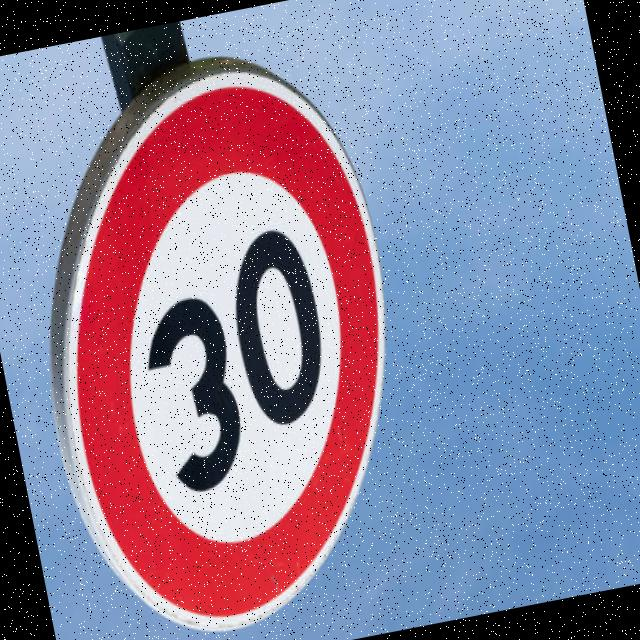speed_limit_30: (0, 31, 457, 640)
